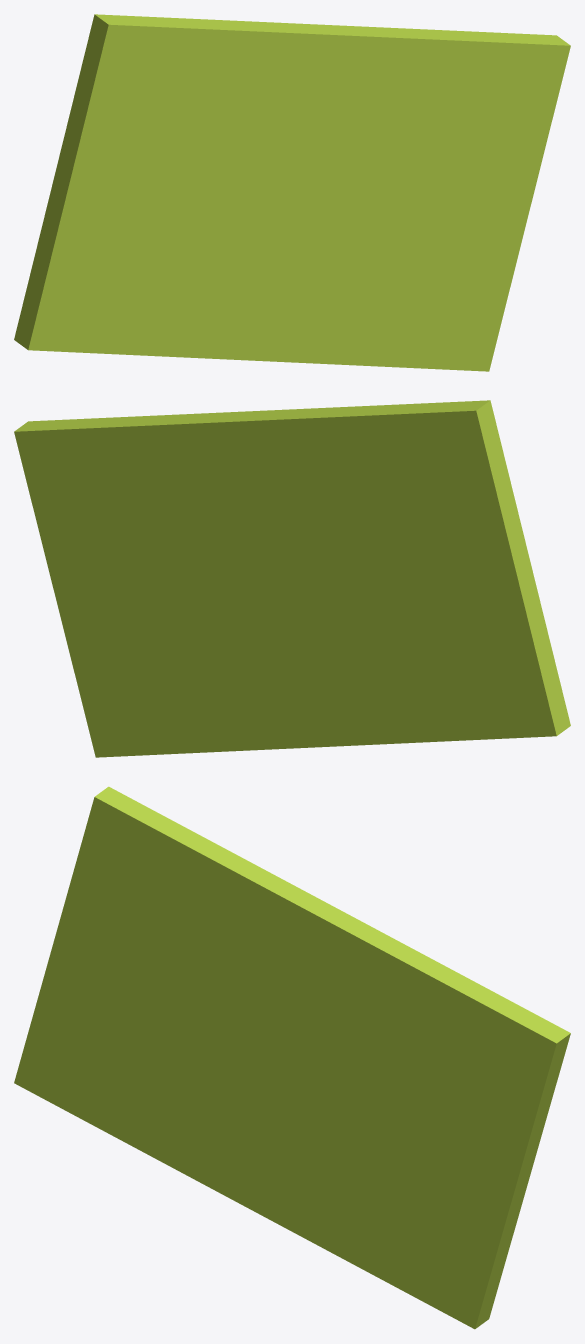
The picture shows the model from 3 angles, top to bottom: view 1: azimuth 30°, elevation 25°; view 2: azimuth 150°, elevation 25°; view 3: azimuth 330°, elevation 25°; orthographic projection.
Visible parts, largest first — view 1: osm-way27917482-F3; view 2: osm-way27917482-F3; view 3: osm-way27917482-F3.
Part boxes in pixels (box(x1,y1,x2,y2)): osm-way27917482-F3: box(14, 14, 570, 371); osm-way27917482-F3: box(14, 400, 570, 757); osm-way27917482-F3: box(14, 786, 570, 1329).
Bounding box in the file's own units: 3.3 × 2.56 × 0.15.
